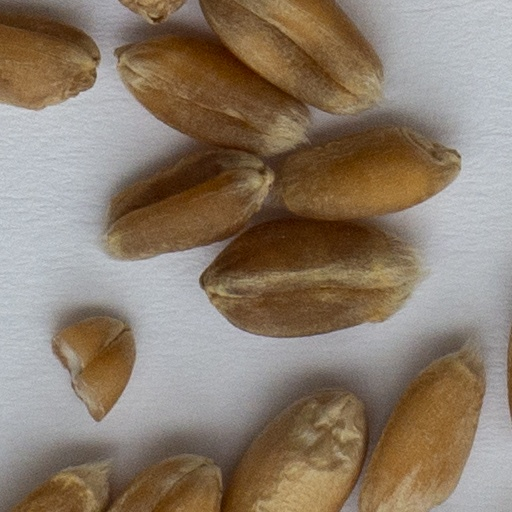Wheat-grain-damaged-poly: (54, 316, 135, 419)
